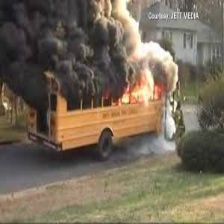smoke: (1, 1, 177, 108)
